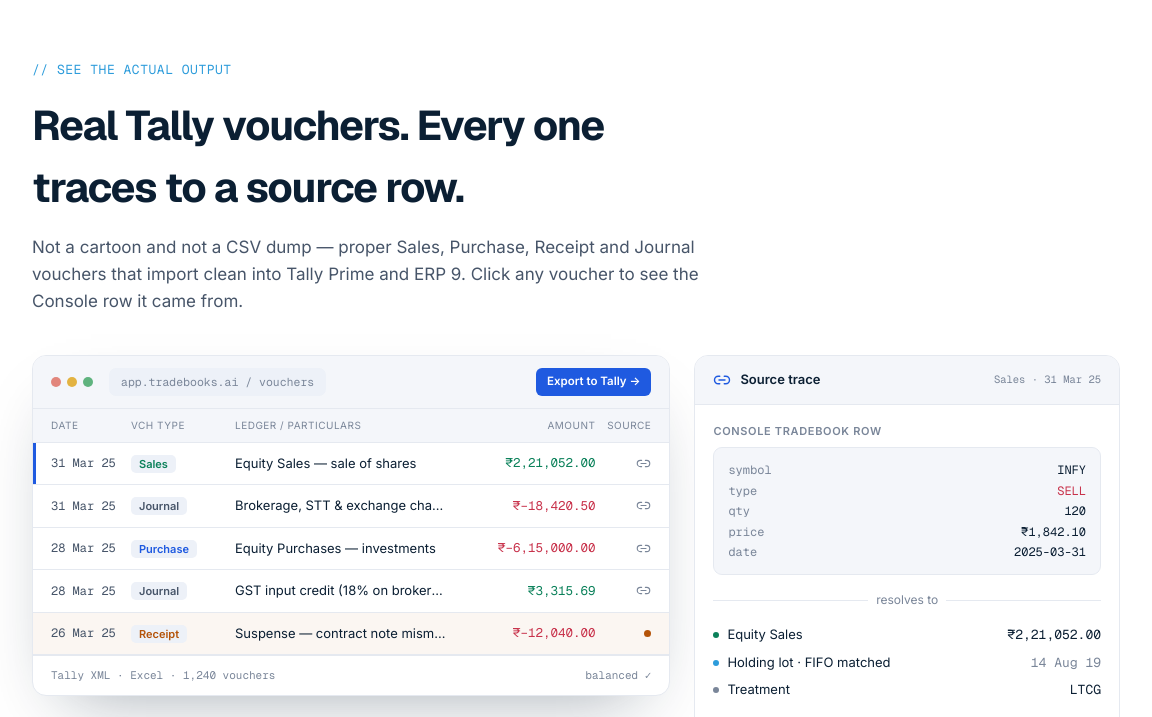
OutputTerminal source trace › marks the selected row as pressed and moves it on click
Click the text "Suspense — contract note mismatch".
click(345, 633)  # box 235,624 -> 455,643
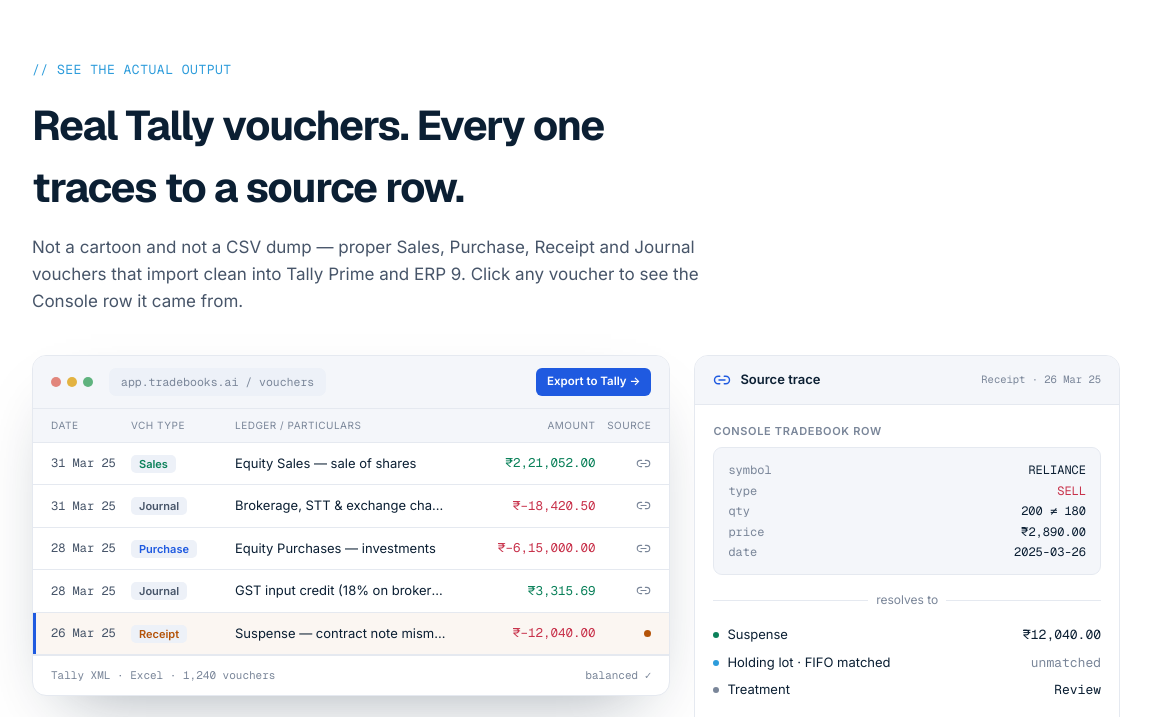
Result: the text with test id "trace-vch" reads "Receipt · 26 Mar 25" at 981,372 -> 1101,388
